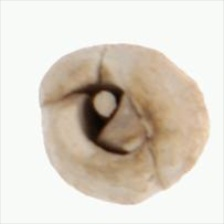L3: (78, 81, 150, 154)
L4: (39, 44, 211, 204)
